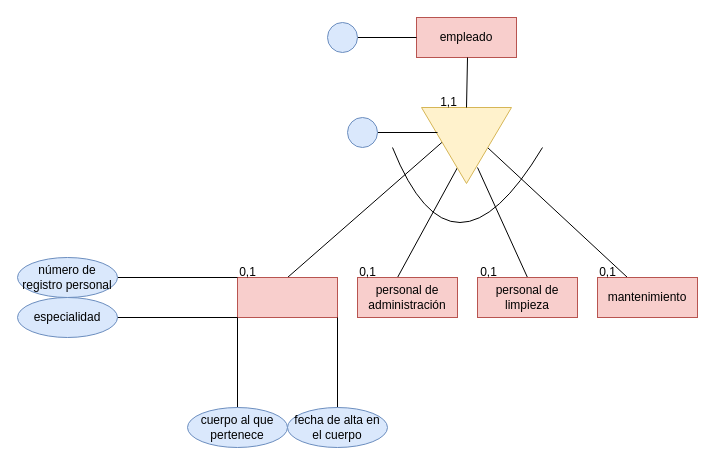
Image size: 715x465. Some labels were removed from this diagram. Each missing label, with the box of its shape:
id: (326, 22, 358, 52)
profesores: (236, 276, 338, 318)
tipo: (346, 116, 378, 148)
